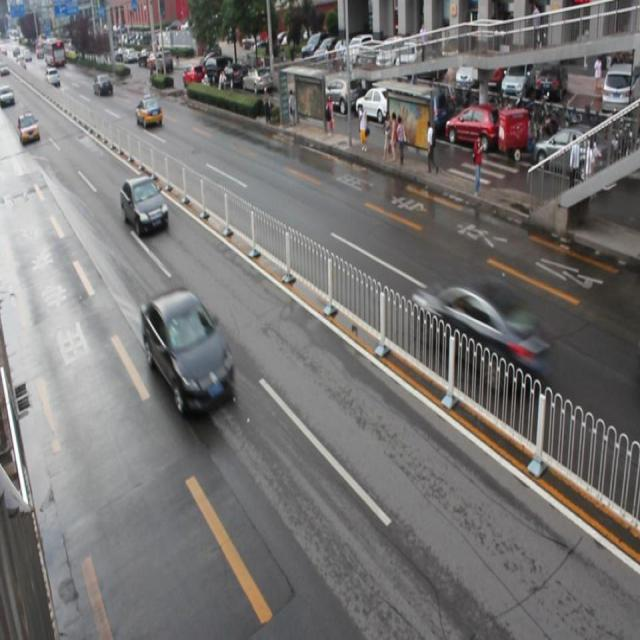car: (412, 276, 550, 391), (141, 286, 235, 417), (120, 175, 168, 235), (135, 95, 162, 128)
